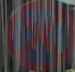No Stopping: (7, 6, 67, 60)
